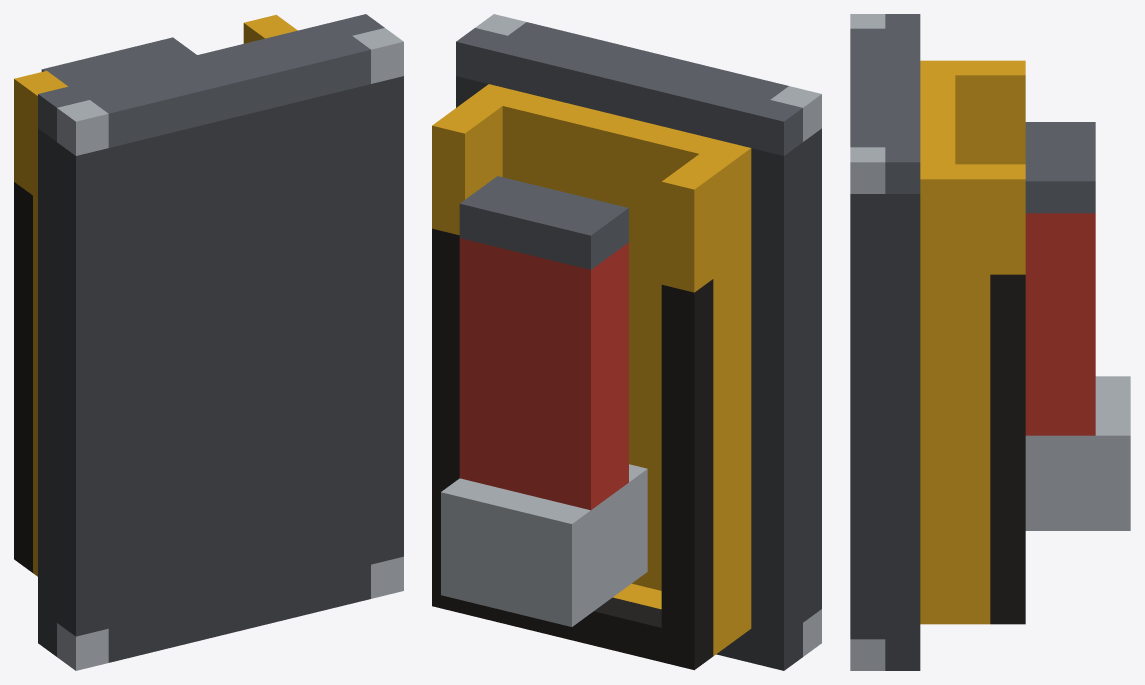
File: sm_wall_switch.gltf
3 views of the same model, side by side, from view 1: azimuth 30°, elevation 25°; view 2: azimuth 150°, elevation 25°; view 3: azimuth 270°, elevation 25° (orthographic). The views are drawn at different scales.
Parts seen in each view (by area): view 1: switch_housing, switch_paddle; view 2: switch_housing, switch_paddle; view 3: switch_housing, switch_paddle.
Part boxes in pixels (left/top/right/bottom): switch_housing: left=14, top=14, right=403, bottom=670; switch_paddle: left=41, top=37, right=196, bottom=86; switch_housing: left=432, top=14, right=821, bottom=670; switch_paddle: left=441, top=176, right=647, bottom=626; switch_housing: left=850, top=14, right=1025, bottom=670; switch_paddle: left=1025, top=122, right=1130, bottom=530.
Bounding box in the file's own units: 0.6 × 0.96 × 0.48.
Materials: 1 (1 with a texture image).
